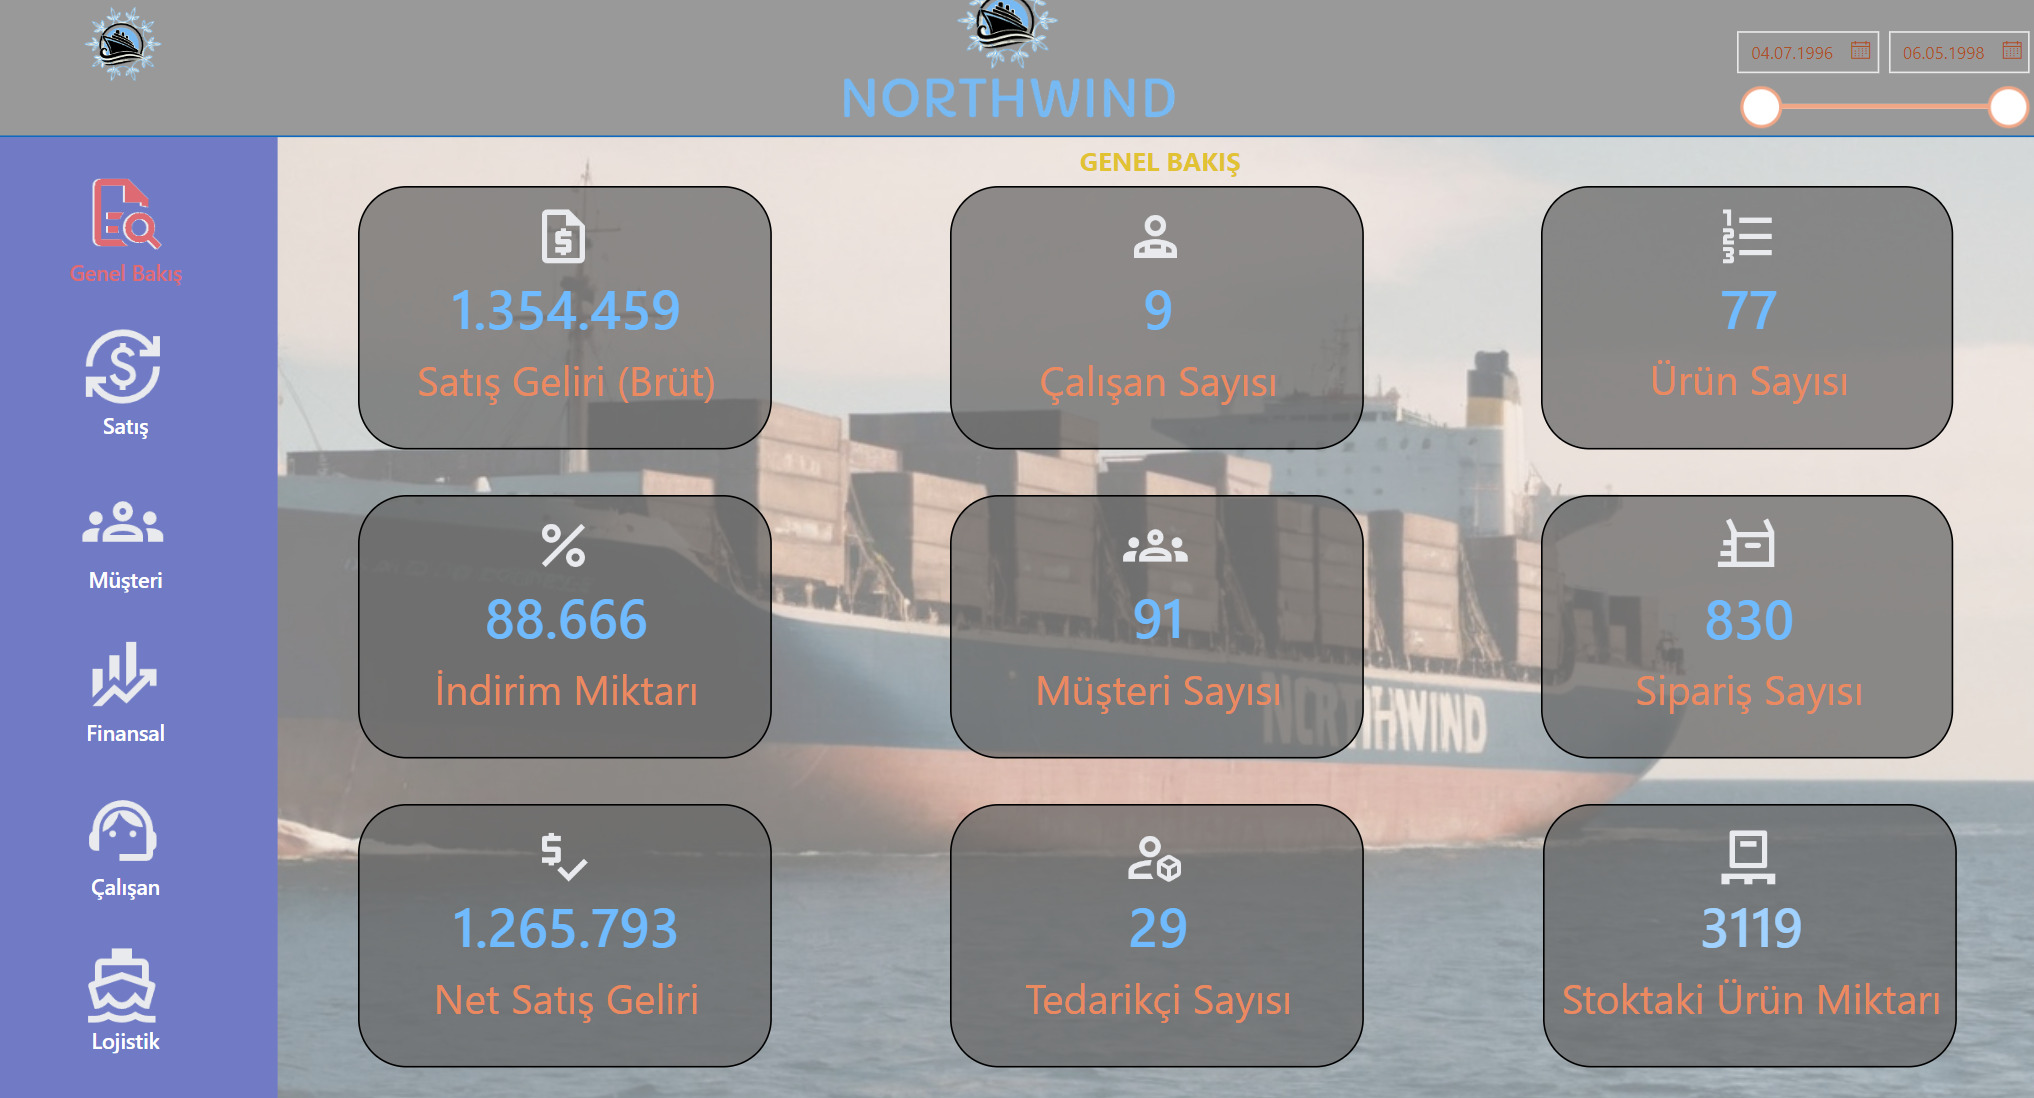

This screenshot's page, from the dashboard's own definition file:
{"tool":"powerbi","page":{"name":"Genel Bakış","canvas":[1280,720],"ordinal":1},"visuals":[{"type":"shape","box":[0,0,187.8,719.8],"z":0},{"type":"shape","box":[0,0,1280,113.9],"z":1000},{"type":"image","box":[390.1,0,499.9,113.9],"z":2000},{"type":"image","box":[42,130.2,100.1,60.2],"z":3000},{"type":"pageNavigator","box":[3.4,154.8,180.7,565.3],"z":4000},{"type":"image","box":[42.1,226,100,60],"z":5000},{"type":"card","fields":{"Values":["Ölçüler.Satış Geliri (Brüt)"]},"box":[237.3,143.9,255.7,163],"z":6000},{"type":"card","fields":{"Values":["Ölçüler.Net Satış Geliri"]},"box":[237.3,526.5,255.7,163],"z":7000},{"type":"card","fields":{"Values":["Ölçüler.İndirim Miktarı"]},"box":[237.3,335.5,255.7,163],"z":8000},{"type":"card","fields":{"Values":["Ölçüler.Çalışan Sayısı"]},"box":[603.5,143.9,255.7,163],"z":9000},{"type":"card","fields":{"Values":["Ölçüler.Ürün Sayısı"]},"box":[969.3,144.1,255.5,162.7],"z":10000},{"type":"card","fields":{"Values":["Ölçüler.Sipariş Sayısı"]},"box":[969.3,335.3,255.5,163.3],"z":11000},{"type":"card","fields":{"Values":["Ölçüler.Müşteri Sayısı"]},"box":[603.5,335.5,255.7,163],"z":12000},{"type":"card","fields":{"Values":["Ölçüler.Tedarikçi Sayısı"]},"box":[603.5,526.5,255.7,163],"z":13000},{"type":"card","fields":{"Values":["Ölçüler.Stoktaki Toplam Ürün Miktarı"]},"box":[970.4,526.5,255.7,163],"z":14000},{"type":"textbox","box":[603.5,112.5,255.7,34.8],"z":15000},{"type":"slicer","fields":{"Values":["orders.order_date"]},"box":[1077.5,38.2,202.5,75.7],"z":16000},{"type":"image","box":[60,26.6,63.4,60],"z":17000},{"type":"image","box":[41.7,608.6,100.8,60],"z":18000},{"type":"image","box":[42.1,513,100,60],"z":19000},{"type":"image","box":[42,417.2,100.1,60.2],"z":20000},{"type":"image","box":[42.1,321.6,100,60],"z":21000},{"type":"image","box":[43.2,130.2,100.1,60.2],"z":22000},{"type":"image","box":[1072.6,534.4,50,50],"z":23000},{"type":"image","box":[1072,341.4,50.1,50.1],"z":24000},{"type":"image","box":[1072,150.3,50.1,50.1],"z":25000},{"type":"image","box":[339.6,341.4,50.1,50.1],"z":26000},{"type":"image","box":[339.6,534.4,50.1,50.1],"z":27000},{"type":"image","box":[339.6,150.3,50.1,50.1],"z":28000},{"type":"image","box":[705.8,341.4,50.1,50.1],"z":29000},{"type":"image","box":[705.8,150.3,50.1,50.1],"z":30000},{"type":"image","box":[705.8,534.4,50.1,50.1],"z":31000}]}

Visuals, with their boxes in screenshot pixels (x1, y1, x2, y2):
shape: [0,0,277,1097]
shape: [0,0,2033,131]
image: [603,0,1410,131]
image: [41,157,203,254]
pageNavigator: [0,197,271,1097]
image: [41,312,203,409]
card - Ölçüler.Satış Geliri (Brüt): [357,179,769,442]
card - Ölçüler.Net Satış Geliri: [357,797,769,1060]
card - Ölçüler.İndirim Miktarı: [357,489,769,752]
card - Ölçüler.Çalışan Sayısı: [948,179,1360,442]
card - Ölçüler.Ürün Sayısı: [1538,180,1951,442]
card - Ölçüler.Sipariş Sayısı: [1538,488,1951,752]
card - Ölçüler.Müşteri Sayısı: [948,489,1360,752]
card - Ölçüler.Tedarikçi Sayısı: [948,797,1360,1060]
card - Ölçüler.Stoktaki Toplam Ürün Miktarı: [1540,797,1953,1060]
textbox: [948,129,1360,185]
slicer - orders.order_date: [1713,9,2033,131]
image: [70,0,173,87]
image: [41,929,204,1026]
image: [41,775,203,872]
image: [41,620,203,718]
image: [41,466,203,563]
image: [43,157,205,254]
image: [1705,810,1786,890]
image: [1704,498,1785,579]
image: [1704,190,1785,271]
image: [522,498,603,579]
image: [522,810,603,891]
image: [522,190,603,271]
image: [1113,498,1194,579]
image: [1113,190,1194,271]
image: [1113,810,1194,891]
